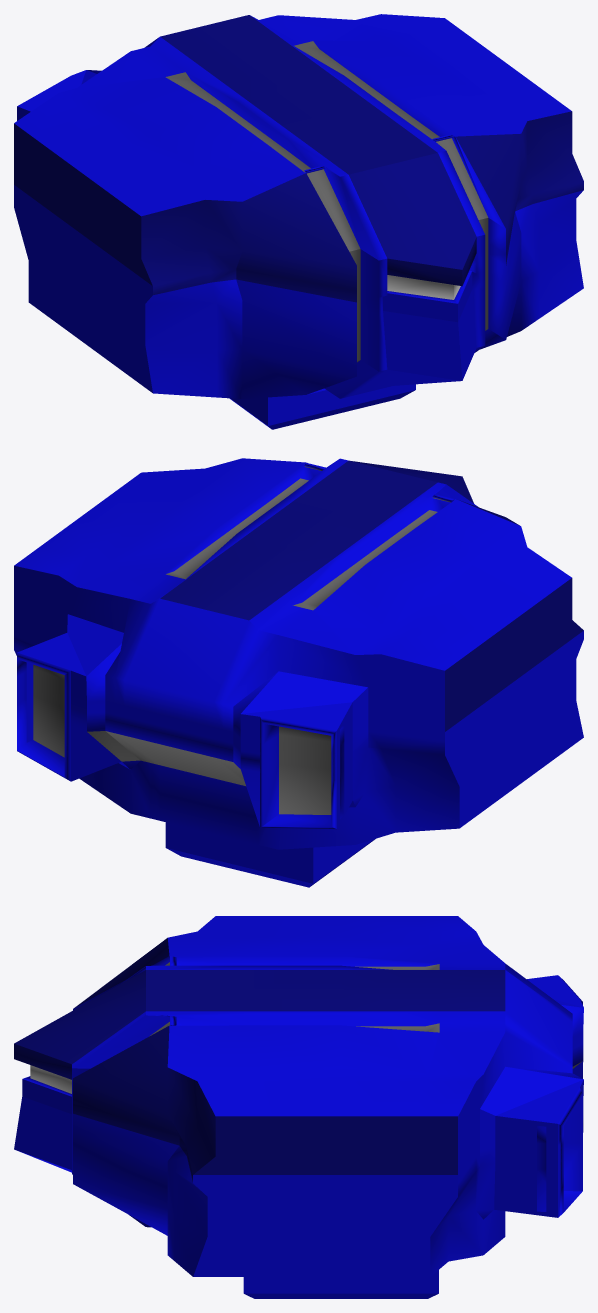
The model's file is body.fbx.
3 views of the same model, one above another, from view 1: azimuth 30°, elevation 25°; view 2: azimuth 150°, elevation 25°; view 3: azimuth 270°, elevation 25° (orthographic). The views are drawn at different scales.
Parts seen in each view (by area): view 1: pCube1; view 2: pCube1; view 3: pCube1.
Boxes of the visible parts, bbox=[...] form: pCube1: bbox=[14, 14, 583, 429]; pCube1: bbox=[14, 458, 583, 887]; pCube1: bbox=[14, 916, 583, 1298].
Bounding box in the file's own units: 1.16 × 0.7507 × 1.39.
